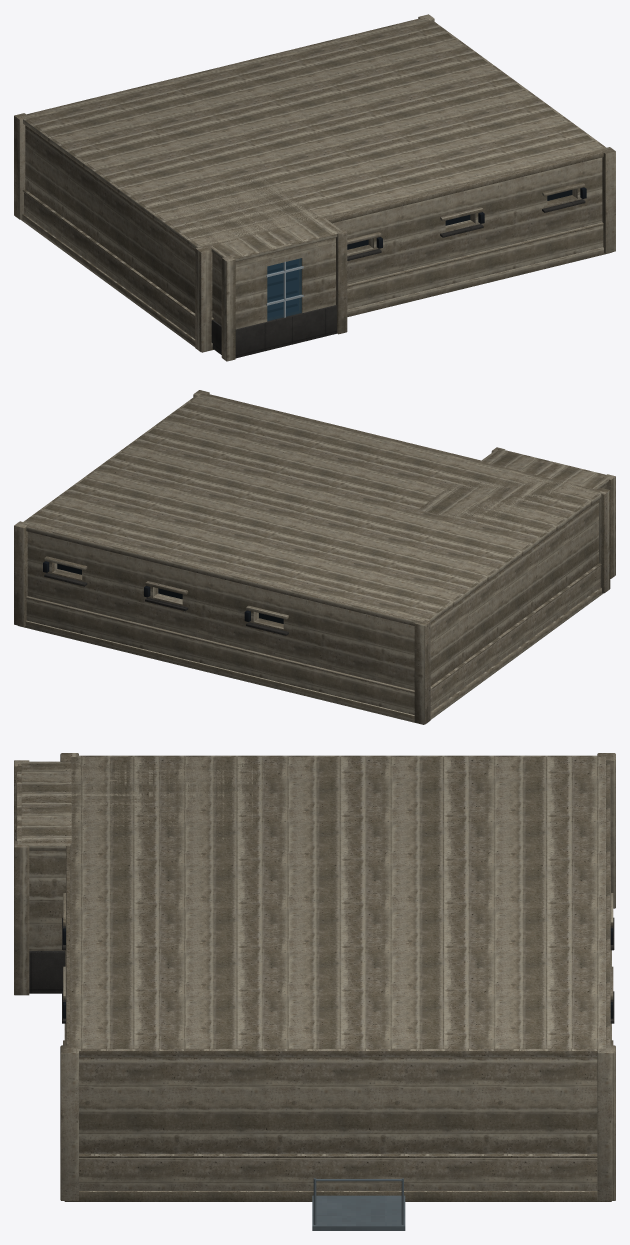
Rendered from fac_security_floor.glb.
3 renders of one model, top to bottom at view 1: azimuth 30°, elevation 25°; view 2: azimuth 150°, elevation 25°; view 3: azimuth 270°, elevation 25°, orthographic. The views are drawn at different scales.
Parts seen in each view (by area): view 1: FAC_SECURITY_FLOOR; view 2: FAC_SECURITY_FLOOR; view 3: FAC_SECURITY_FLOOR.
Part boxes in pixels (x1,y1,x2,y2): FAC_SECURITY_FLOOR: (14, 14, 615, 361); FAC_SECURITY_FLOOR: (14, 390, 615, 724); FAC_SECURITY_FLOOR: (14, 753, 615, 1230).
Bounding box in the file's own units: 15.08 × 3.24 × 11.66.
9 materials, 6 textured.
